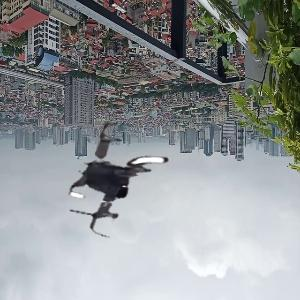drone: (59, 117, 188, 246)
